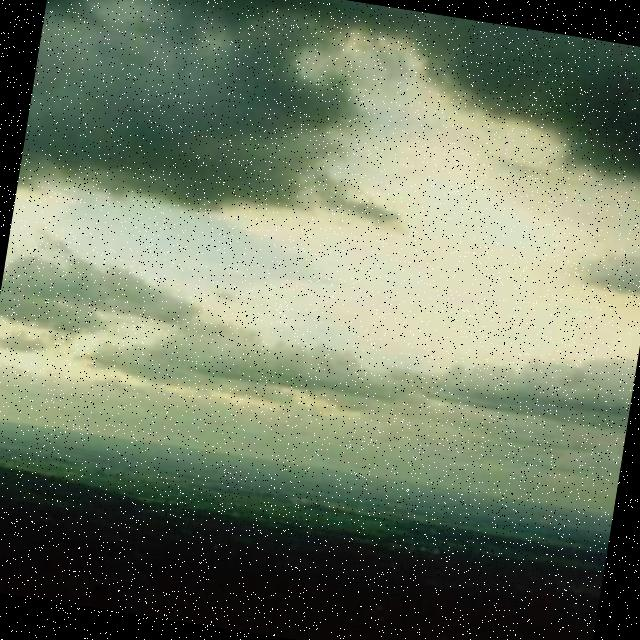Sc: (1, 1, 640, 476)
